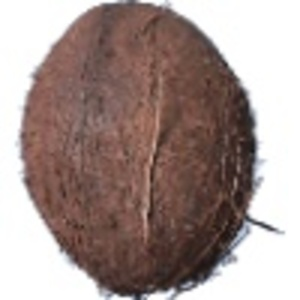coco: (20, 1, 284, 300)
